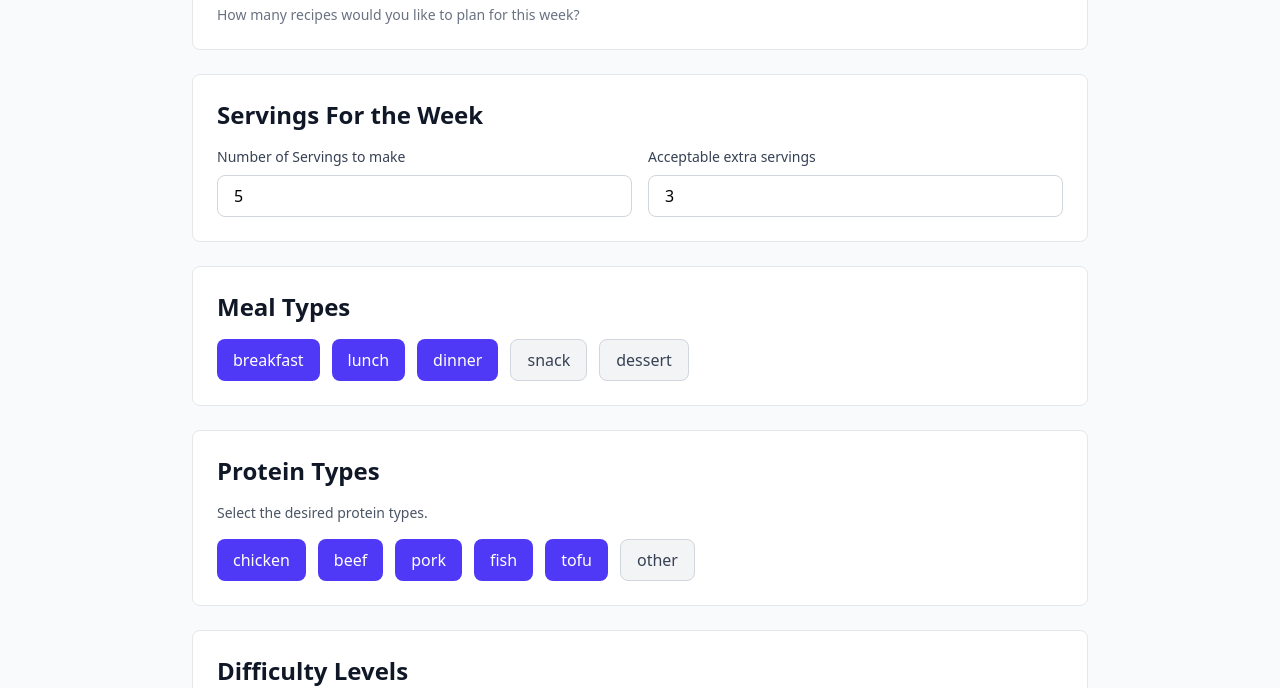
Scenario: Preferences › Save Functionality › save button is enabled when there are changes
The width and height of the screenshot is (1280, 688).
(page scrolled)
Click the button "snack" at (549, 360), box [510, 339, 587, 381]
(page scrolled)
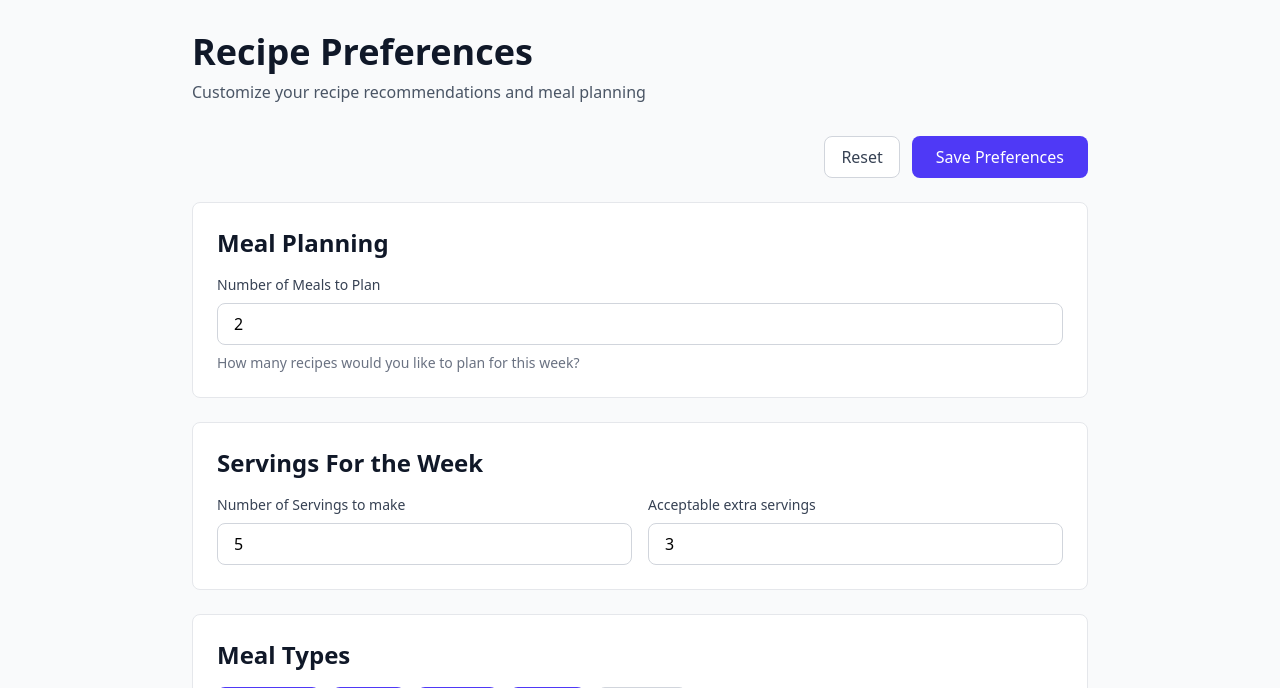
Now the button "Save Preferences" is enabled, box [912, 136, 1088, 178]
